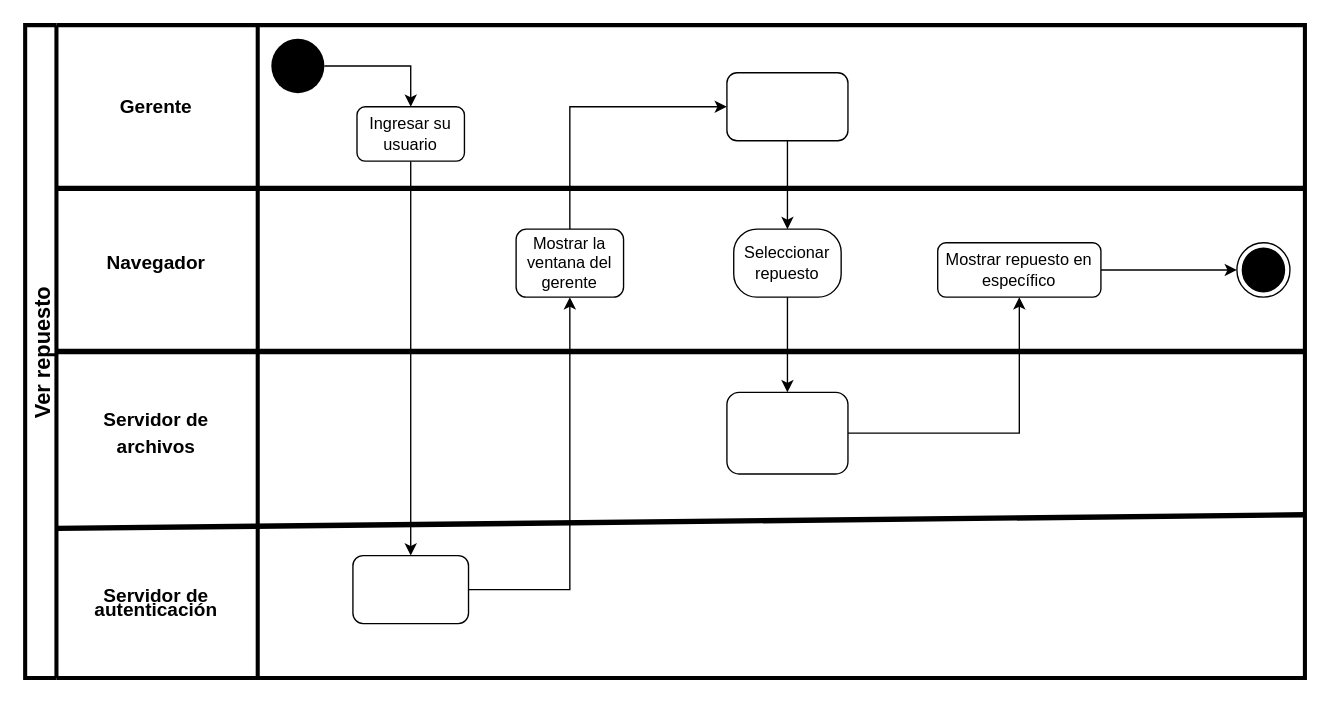
This 1333x704 diagram has some shape labels left out. Here are the shapes that lost their labels. From the top down, the centre of each, then its label:
At point (787, 106): "Seleccionar la ventana de repuestos".
At point (787, 432): "Obtener datos del repuestos seleccionado".
At point (410, 589): "Autenticar los permisos de usuario".
